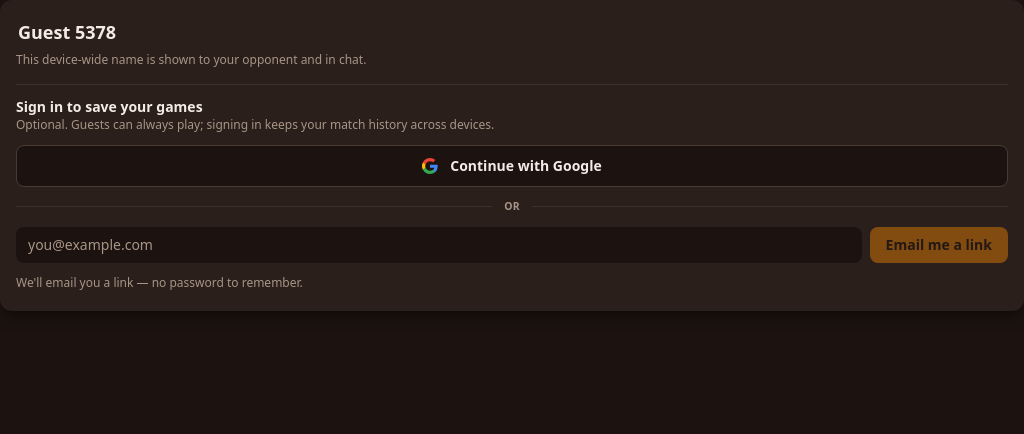
Test case: IdentityCard › opens the display-name editor for guests from the header
Click the button with aria-label "Edit name" at {"x": 67, "y": 32}, box [16,16,118,48]
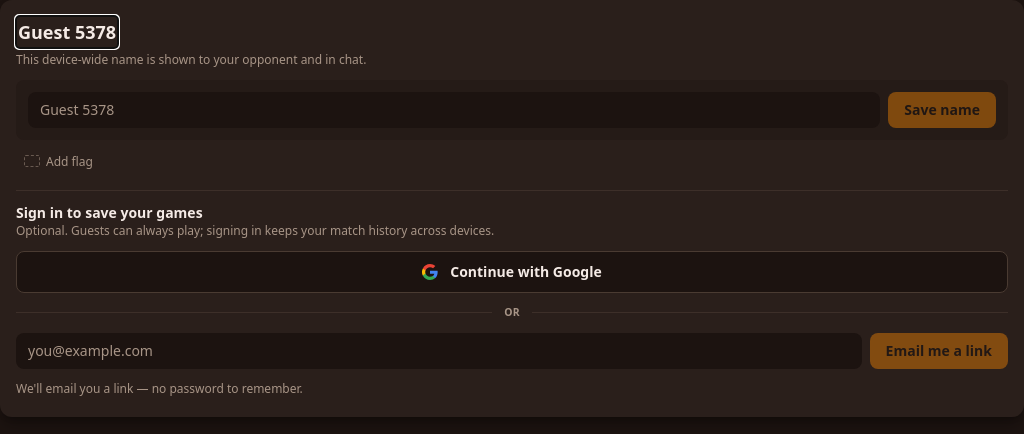
Check: the element with test id "display-name-form" is shown, box [28,92,996,128]
Type "Alice" into the field named "Display name" at {"x": 454, "y": 110}, box [28,92,880,128]
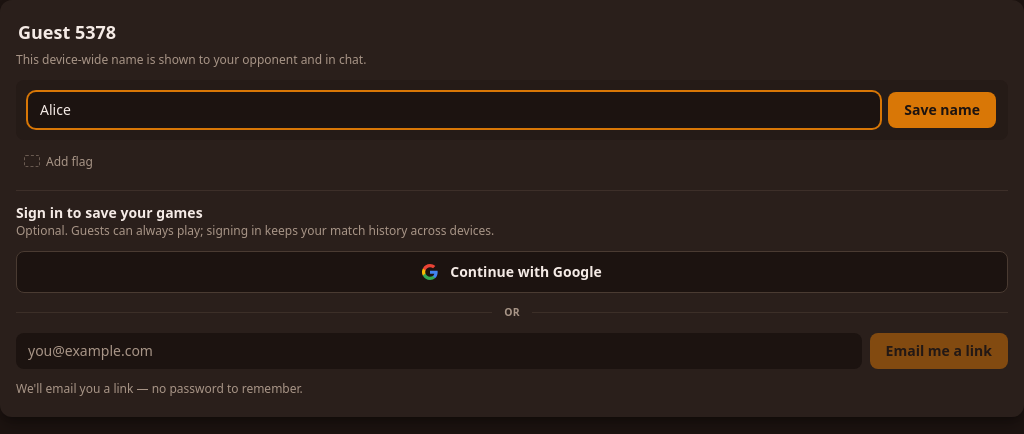
Click the button "Save name" at {"x": 942, "y": 110}, box [888,92,996,128]
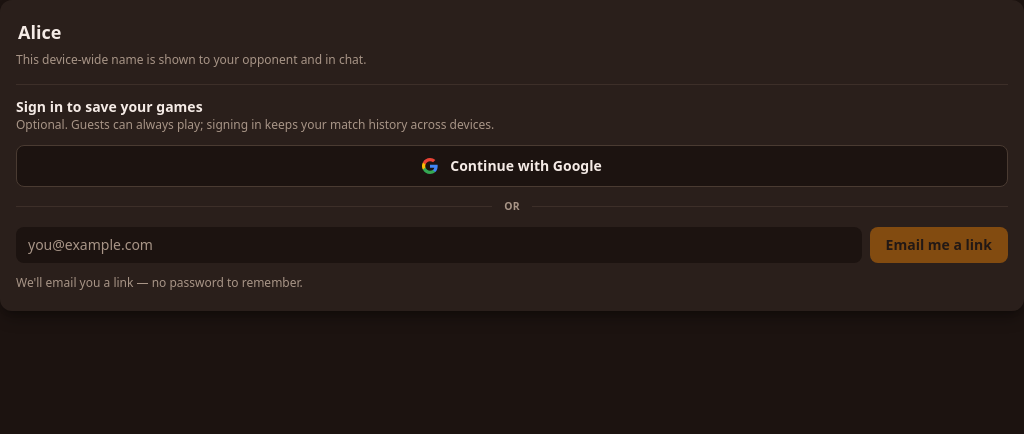
Check: the text with test id "identity-name" reads "Alice", box [18,20,61,44]
